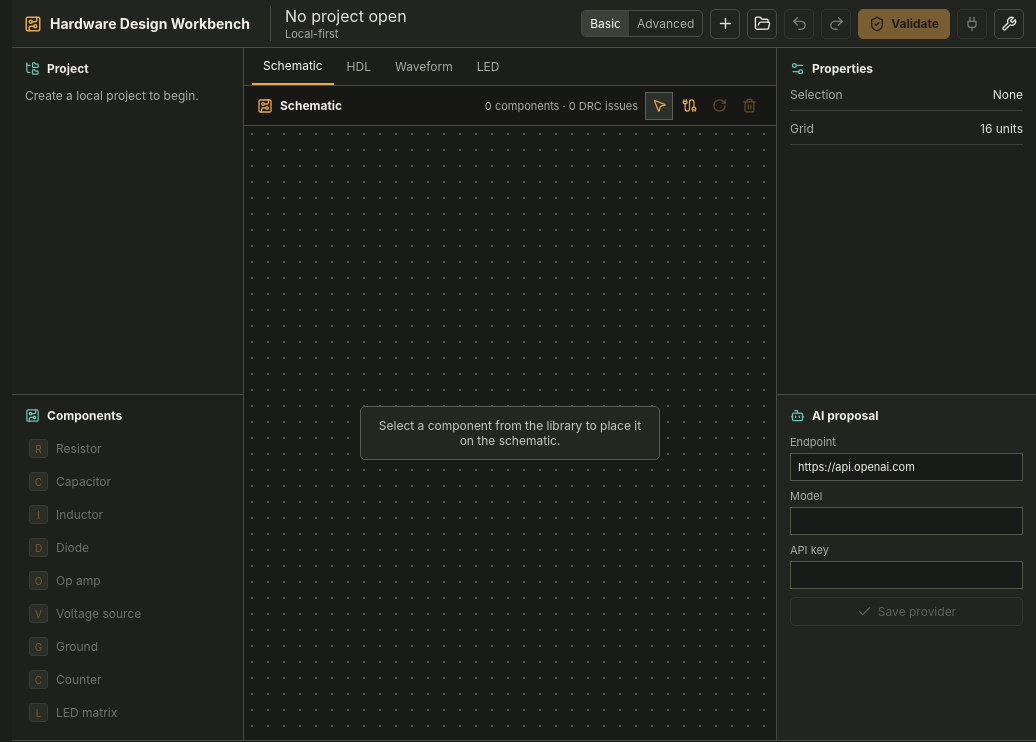
Test case: App › renders a verified Tiny8 frame in the LED surface
Step 1. Click the tab "LED" → x=488, y=66, box [466,48,510,85]
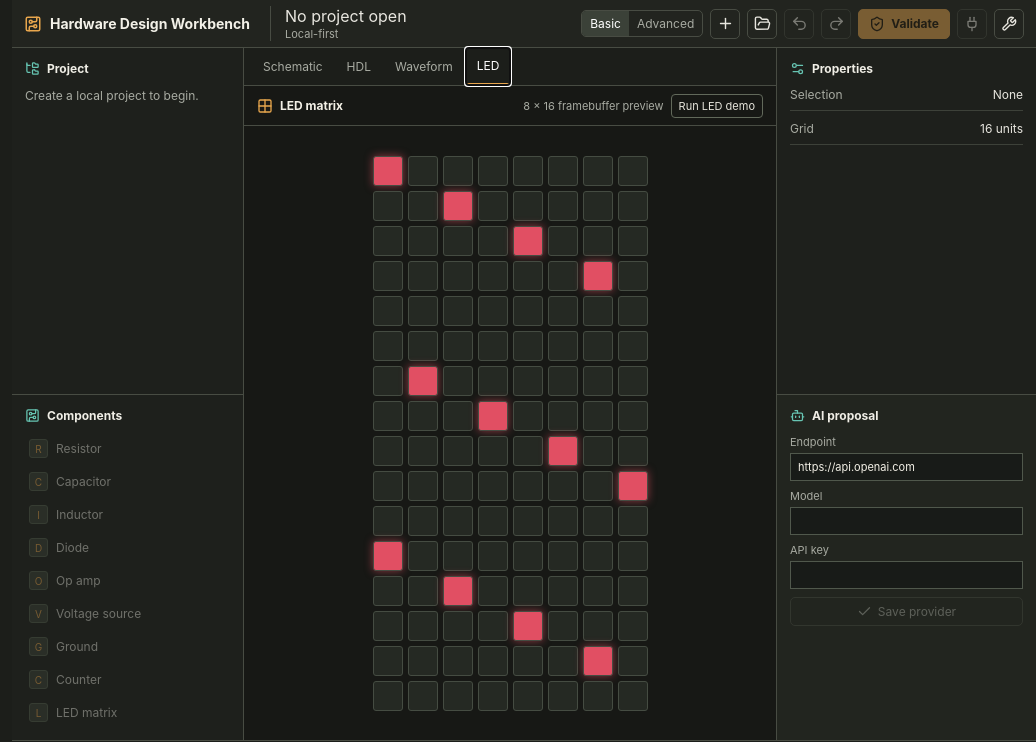
Step 2. Click the button "Run LED demo" → x=717, y=106, box [671,94,763,118]
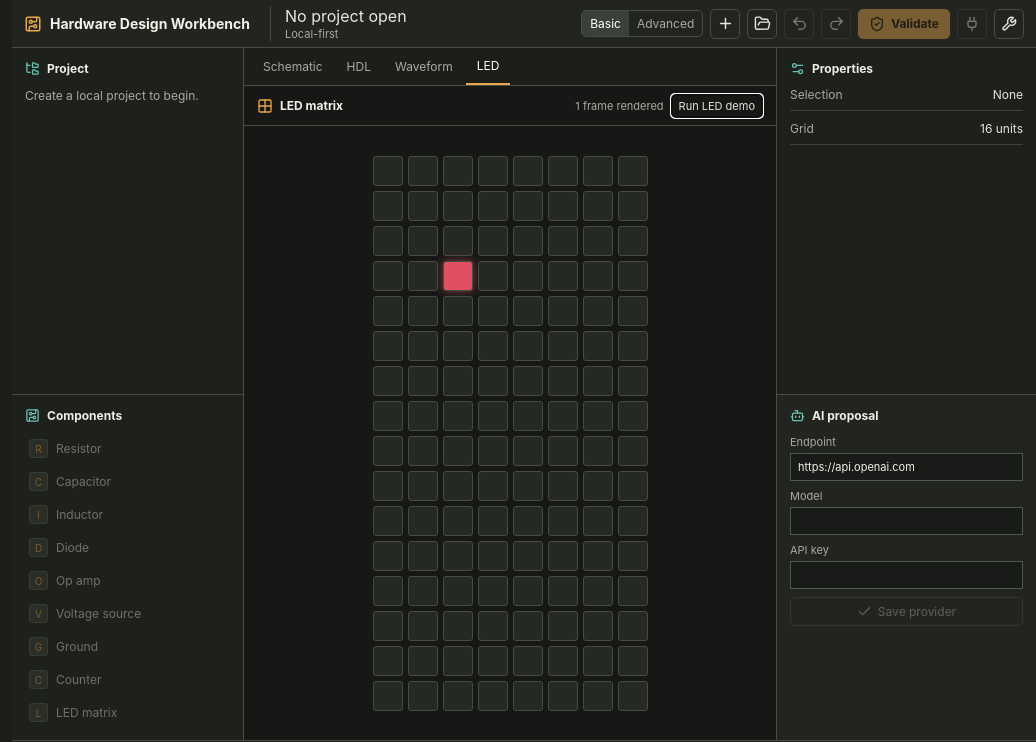
Check: the text "1 frame rendered" is shown, box [575,98,664,112]
